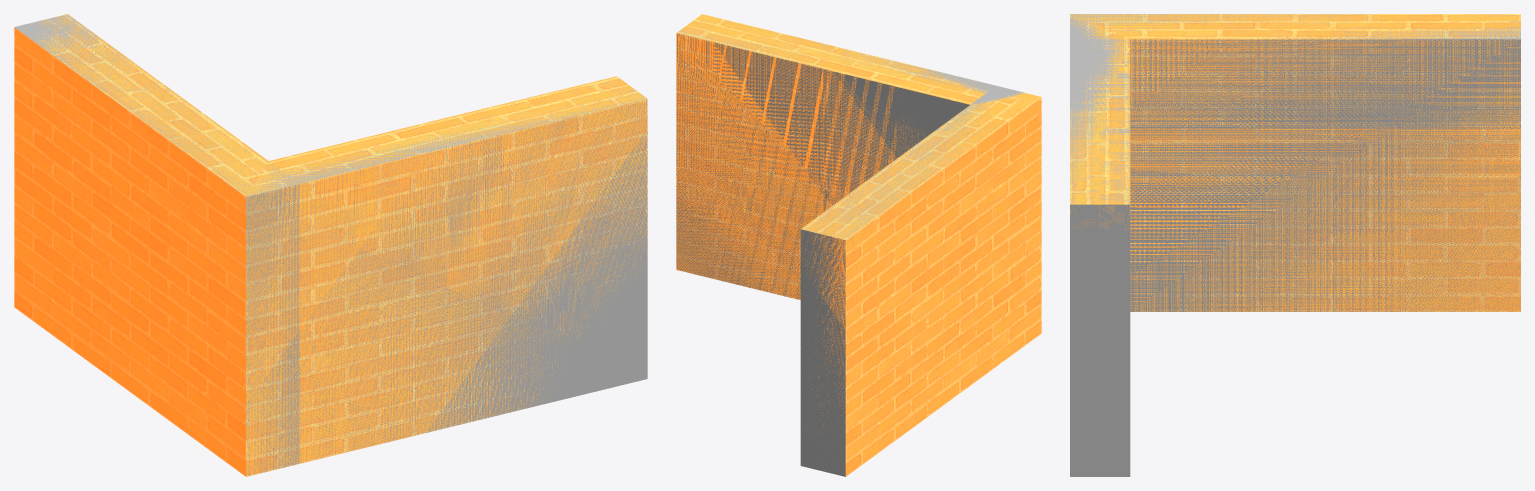
Rendered from SM_WallRoof_CornerIn_2x2_01a.fbx.
The picture shows the model from 3 angles, left to right: view 1: azimuth 30°, elevation 25°; view 2: azimuth 150°, elevation 25°; view 3: azimuth 270°, elevation 25°; orthographic projection. The views are drawn at different scales.
Parts seen in each view (by area): view 1: SM_WallRoof_CornerIn_2x2_01a, SM_WallRoof_CornerIn_2x2_01a_ConvexHulls; view 2: SM_WallRoof_CornerIn_2x2_01a, SM_WallRoof_CornerIn_2x2_01a_ConvexHulls; view 3: SM_WallRoof_CornerIn_2x2_01a_ConvexHulls, SM_WallRoof_CornerIn_2x2_01a.
Part boxes in pixels (left/top/right/bottom): SM_WallRoof_CornerIn_2x2_01a: left=14, top=14, right=647, bottom=476; SM_WallRoof_CornerIn_2x2_01a_ConvexHulls: left=14, top=14, right=647, bottom=476; SM_WallRoof_CornerIn_2x2_01a: left=676, top=14, right=1041, bottom=476; SM_WallRoof_CornerIn_2x2_01a_ConvexHulls: left=676, top=21, right=1024, bottom=476; SM_WallRoof_CornerIn_2x2_01a_ConvexHulls: left=1070, top=14, right=1520, bottom=476; SM_WallRoof_CornerIn_2x2_01a: left=1070, top=14, right=1520, bottom=311.
Size of the model in its own units: 150 by 150 by 100.
